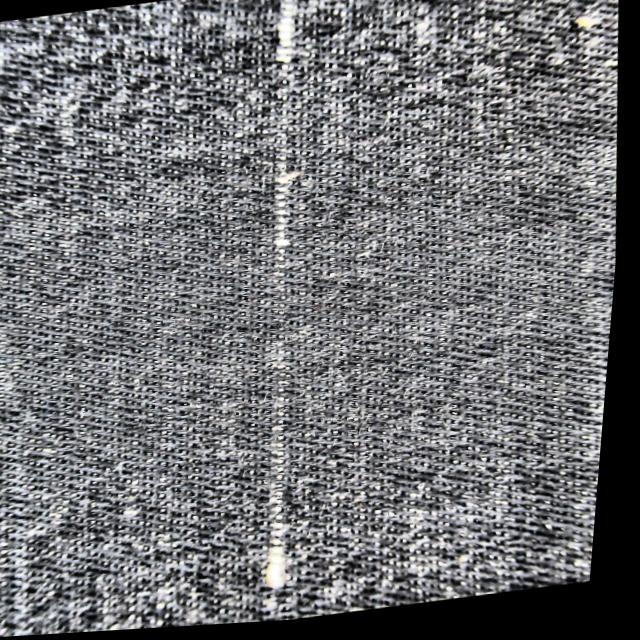Hole: (217, 134, 349, 284), (216, 0, 355, 95)
